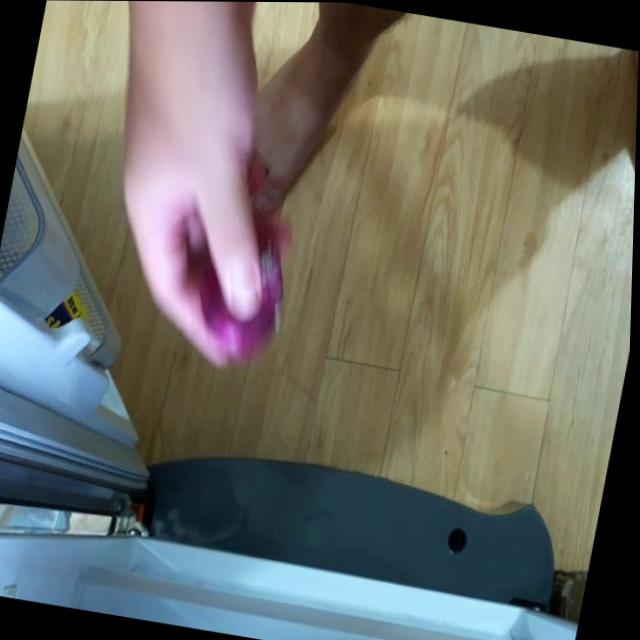onion: (185, 219, 309, 366)
